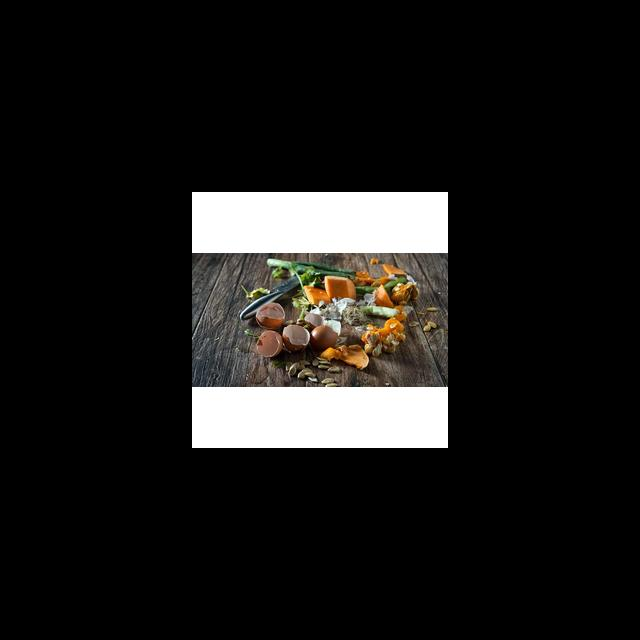food_waste: (243, 256, 417, 371)
